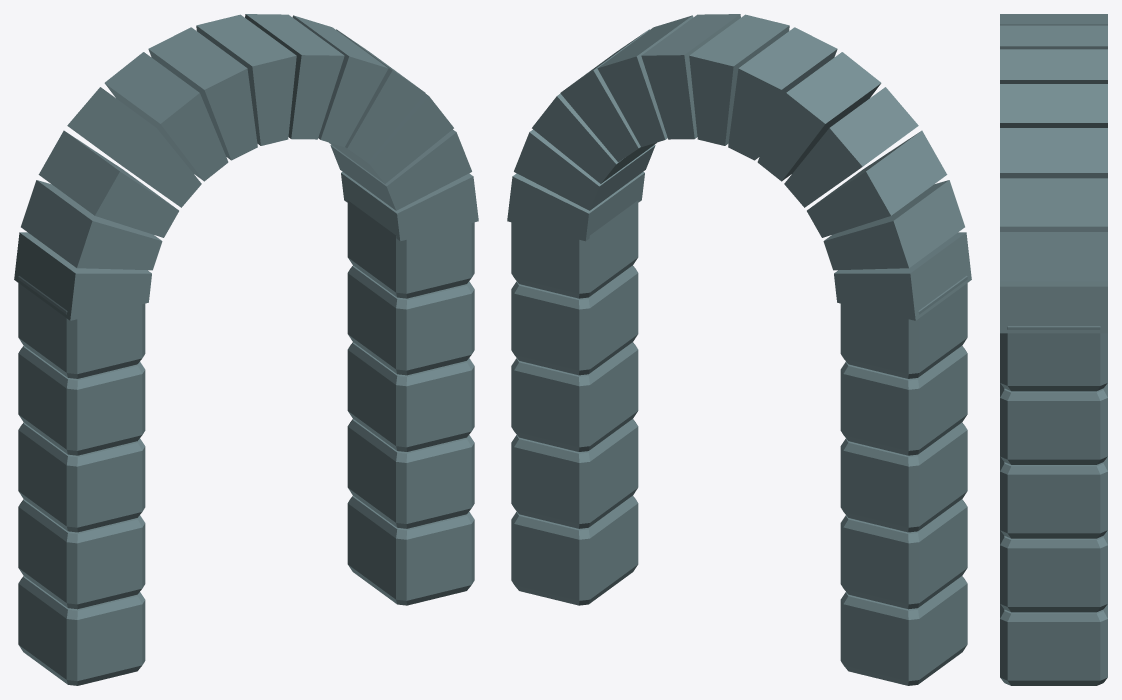
Rendered from arch.glb.
3 views of the same model, side by side, from view 1: azimuth 30°, elevation 25°; view 2: azimuth 150°, elevation 25°; view 3: azimuth 270°, elevation 25° (orthographic). The views are drawn at different scales.
Visible parts, largest first — view 1: arch; view 2: arch; view 3: arch.
Boxes of the visible parts, x1,y1,x2,y2 form: arch: [14, 14, 478, 685]; arch: [507, 14, 971, 685]; arch: [1000, 14, 1107, 685].
Bounding box in the file's own units: 5.46 × 7.39 × 1.3.
